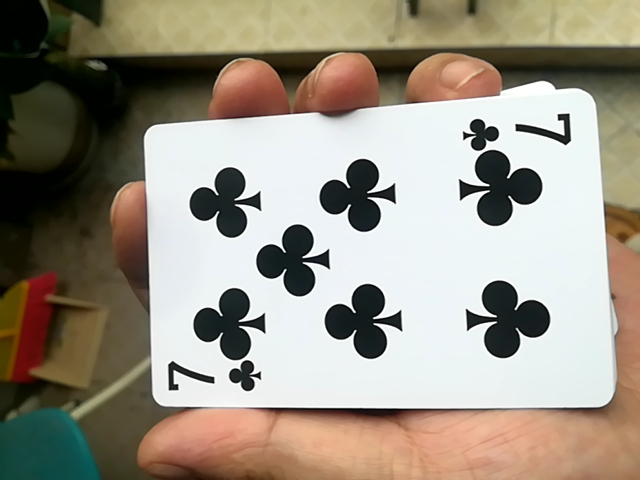mh 7: (123, 99, 612, 423)
